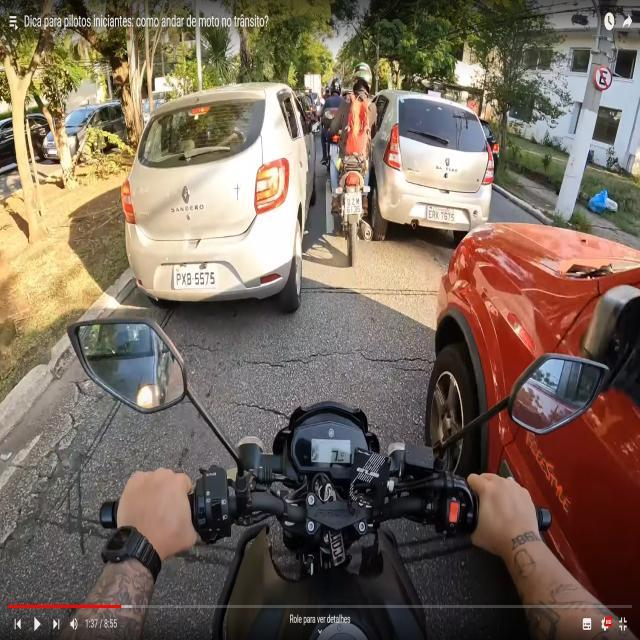placa_moto: (342, 191, 363, 215)
